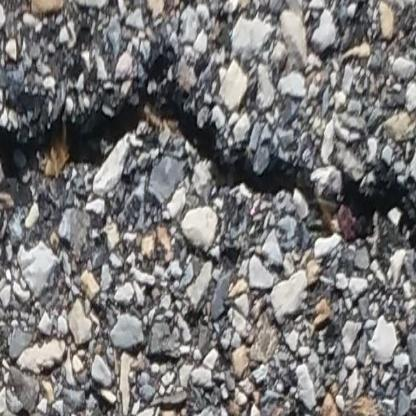Cracks: (0, 68, 416, 258)
